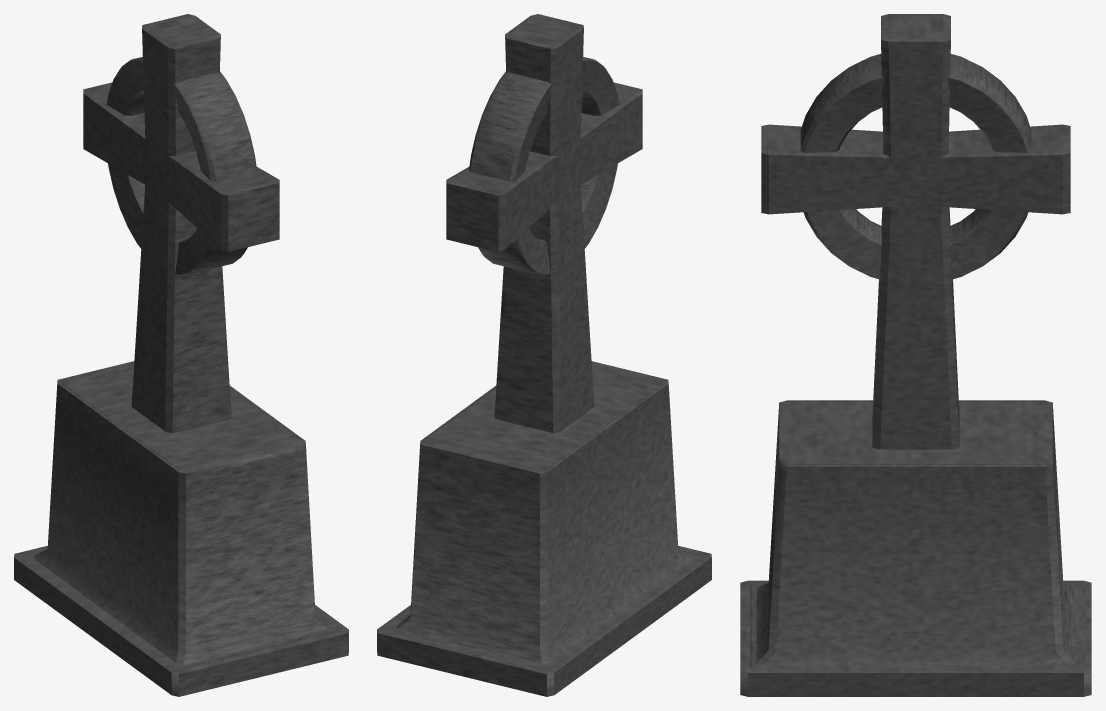
File: tombstone.fbx
3 renders of one model, left to right at view 1: azimuth 30°, elevation 25°; view 2: azimuth 150°, elevation 25°; view 3: azimuth 270°, elevation 25°, orthographic. The views are drawn at different scales.
Parts seen in each view (by area): view 1: Cube; view 2: Cube; view 3: Cube.
Boxes of the visible parts, bbox=[...] form: Cube: bbox=[14, 14, 348, 696]; Cube: bbox=[377, 14, 711, 696]; Cube: bbox=[740, 14, 1091, 696].
Size of the model in its own units: 103 by 325 by 166.
1 material, 1 textured.
